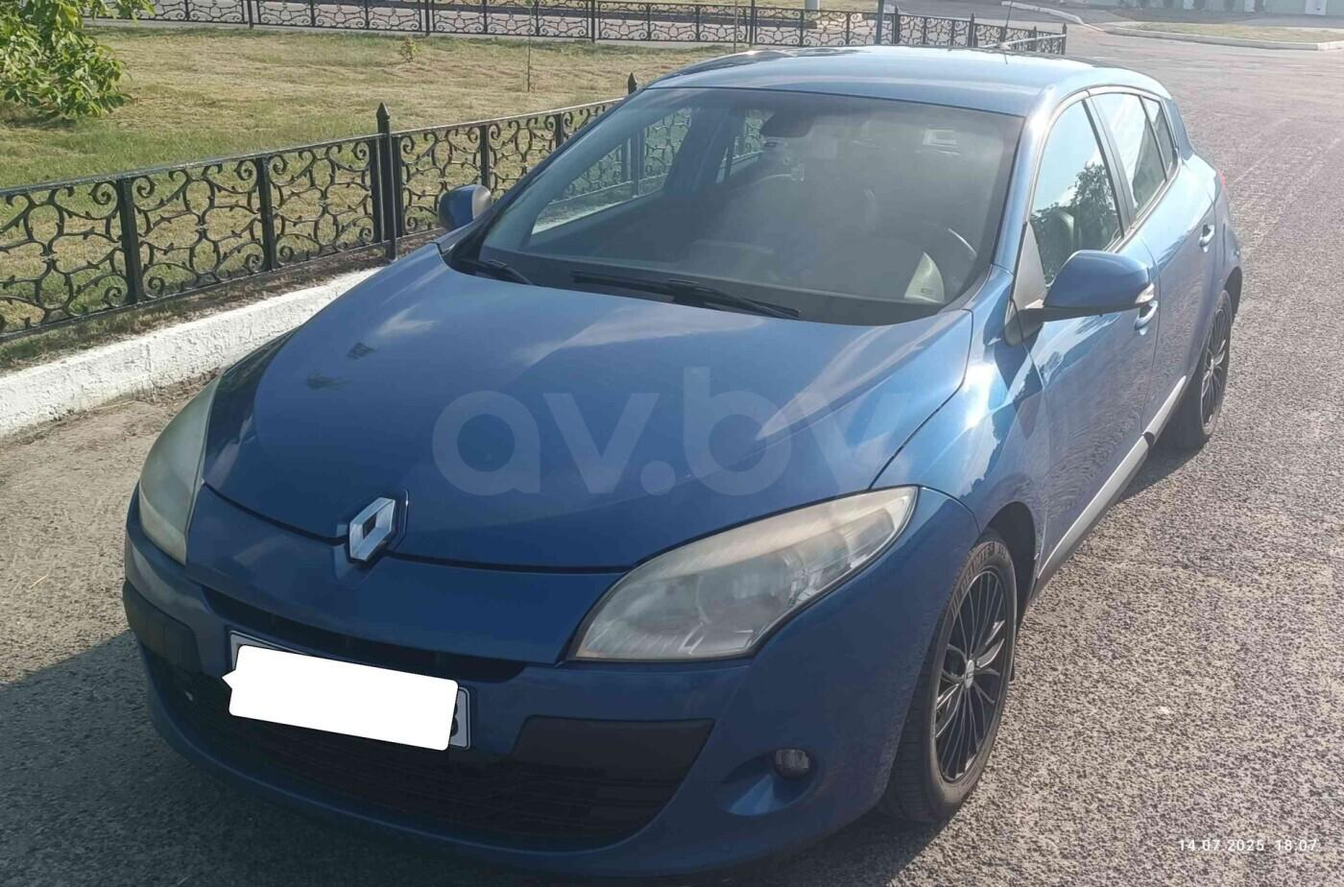Megane_2008-2014: (118, 49, 1246, 858)
